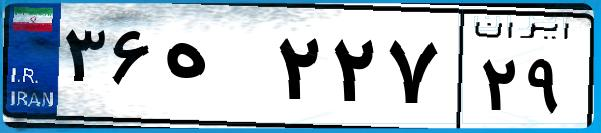2: (270, 28, 330, 110), (330, 28, 385, 110), (475, 38, 525, 113)
3: (57, 26, 110, 100)
6: (110, 28, 158, 98)
7: (385, 28, 445, 110)
9: (525, 38, 570, 115)
ه: (158, 20, 270, 120)
